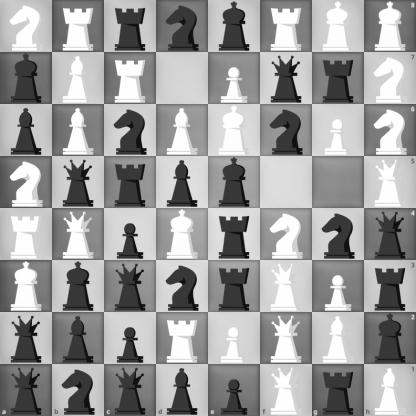B: (364, 364, 416, 416), (53, 53, 104, 104), (53, 105, 104, 156), (157, 105, 208, 156), (313, 313, 364, 364)
K: (364, 0, 416, 52), (1, 261, 52, 312), (157, 209, 208, 260), (209, 105, 260, 156), (313, 1, 364, 52)
N: (364, 52, 416, 104), (364, 104, 416, 156), (1, 1, 52, 52), (1, 157, 52, 208), (261, 209, 312, 260)
P: (209, 53, 260, 104), (209, 313, 260, 364), (313, 105, 364, 156), (313, 261, 364, 312)
Q: (364, 156, 416, 209), (260, 364, 312, 416), (53, 209, 104, 260), (261, 261, 312, 312), (261, 313, 312, 364)
R: (1, 209, 52, 260), (53, 1, 104, 52), (105, 53, 156, 104), (157, 313, 208, 364), (261, 1, 312, 52)
b: (156, 364, 209, 416), (1, 105, 52, 156), (53, 313, 104, 364), (157, 157, 208, 208)
board: (0, 0, 415, 415)
k: (364, 312, 416, 364), (1, 53, 52, 104), (53, 261, 104, 312), (209, 1, 260, 52), (209, 157, 260, 208)
n: (52, 364, 104, 416), (105, 105, 156, 156), (157, 1, 208, 52), (157, 261, 208, 312), (261, 105, 312, 156), (313, 209, 364, 260)
p: (209, 364, 260, 416), (105, 209, 156, 260), (105, 313, 156, 364)
q: (0, 364, 52, 416), (104, 364, 156, 416), (364, 209, 416, 260), (1, 313, 52, 364), (53, 157, 104, 208), (105, 261, 156, 312), (261, 53, 312, 104)
r: (312, 364, 364, 416), (364, 260, 416, 312), (105, 1, 156, 52), (105, 157, 156, 208), (209, 209, 260, 260), (209, 261, 260, 312), (313, 53, 364, 104)
